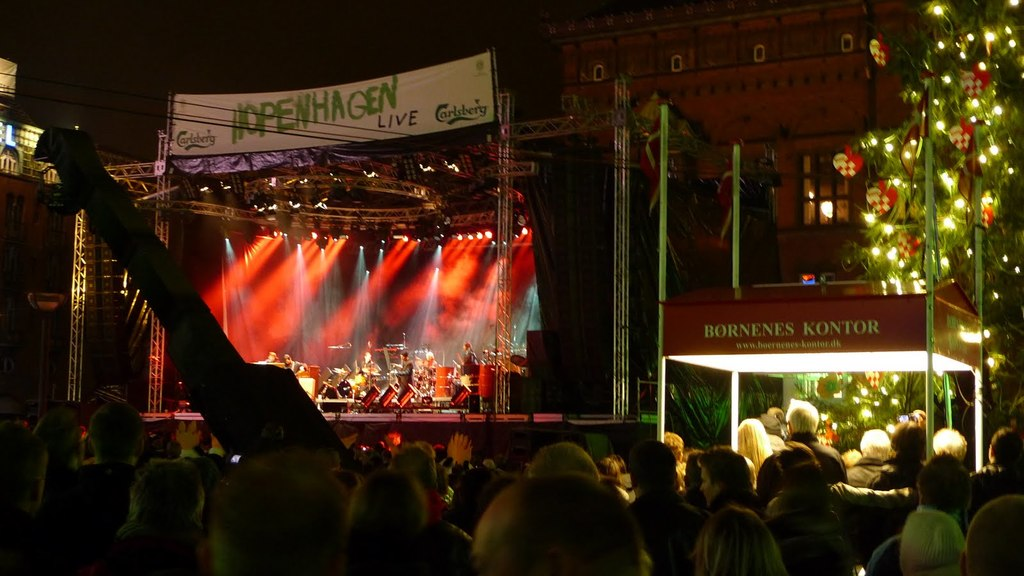Human_hand: (457, 432, 472, 463), (446, 432, 458, 462), (913, 410, 926, 430), (392, 366, 399, 377), (454, 362, 461, 373), (353, 365, 362, 373), (457, 358, 466, 366), (300, 362, 306, 370)
